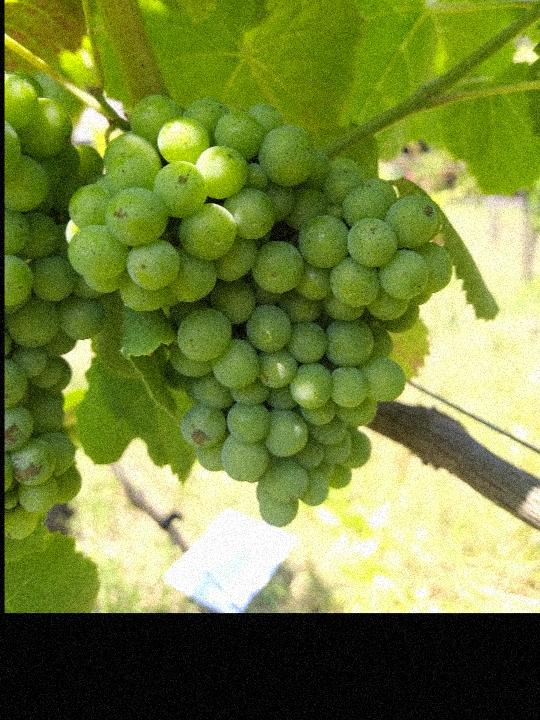grape: (66, 92, 455, 530)
